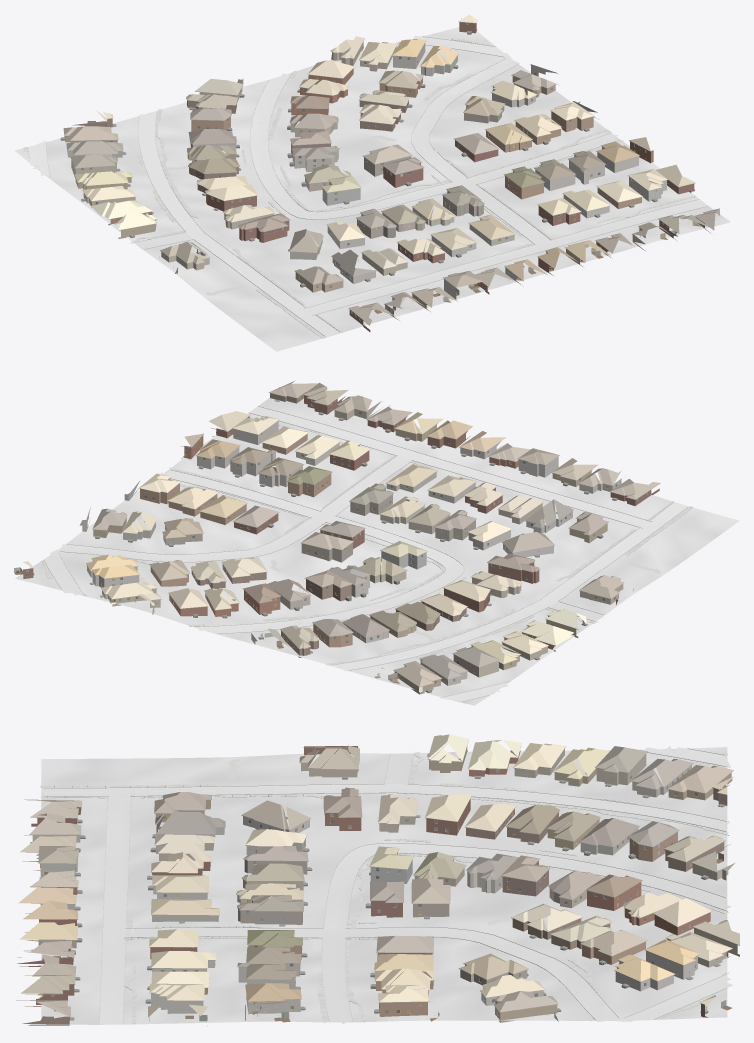
The picture shows the model from 3 angles, top to bottom: view 1: azimuth 30°, elevation 25°; view 2: azimuth 150°, elevation 25°; view 3: azimuth 270°, elevation 25°; orthographic projection. The views are drawn at different scales.
Visible parts, largest first — view 1: ground, roof, concrete, wall, detail, wall_stone, asphalt, walk, curb, wall_stucco, glass, room; view 2: ground, roof, wall, concrete, wall_stone, detail, curb, asphalt, walk, wall_stucco, glass; view 3: ground, roof, concrete, wall, detail, asphalt, wall_stone, curb, walk, wall_stucco, glass, room (+1 smaller).
Boxes of the visible parts, x1=… form: ground: x1=14, y1=27, x2=730, y2=351; roof: x1=63, y1=14, x2=719, y2=324; concrete: x1=28, y1=36, x2=707, y2=314; wall: x1=64, y1=22, x2=709, y2=331; detail: x1=60, y1=18, x2=727, y2=325; wall_stone: x1=190, y1=43, x2=666, y2=320; asphalt: x1=138, y1=111, x2=339, y2=336; walk: x1=23, y1=38, x2=695, y2=338; curb: x1=28, y1=36, x2=708, y2=337; wall_stucco: x1=67, y1=64, x2=609, y2=246; glass: x1=76, y1=22, x2=703, y2=319; room: x1=81, y1=79, x2=700, y2=313; ground: x1=15, y1=397, x2=739, y2=705; roof: x1=23, y1=380, x2=660, y2=686; wall: x1=20, y1=392, x2=659, y2=694; concrete: x1=44, y1=406, x2=648, y2=701; wall_stone: x1=87, y1=421, x2=621, y2=643; detail: x1=26, y1=387, x2=660, y2=692; curb: x1=42, y1=406, x2=690, y2=702; asphalt: x1=331, y1=503, x2=687, y2=670; walk: x1=41, y1=416, x2=693, y2=703; wall_stucco: x1=79, y1=443, x2=498, y2=685; glass: x1=26, y1=395, x2=647, y2=683; ground: x1=41, y1=747, x2=727, y2=1024; roof: x1=16, y1=734, x2=739, y2=1017; concrete: x1=99, y1=746, x2=732, y2=1024; wall: x1=17, y1=746, x2=739, y2=1025; detail: x1=17, y1=742, x2=739, y2=1021; asphalt: x1=44, y1=784, x2=729, y2=830; wall_stone: x1=25, y1=816, x2=697, y2=1014; curb: x1=44, y1=748, x2=729, y2=1023; walk: x1=40, y1=751, x2=728, y2=1024; wall_stucco: x1=152, y1=754, x2=734, y2=971; glass: x1=42, y1=748, x2=697, y2=1019; room: x1=36, y1=750, x2=732, y2=1022.
Bounding box in the file's own units: 260 × 21.46 × 265.
